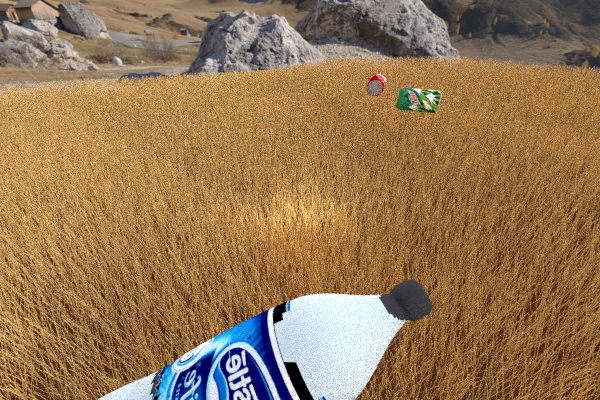bottle: (0, 281, 427, 400)
can: (267, 195, 342, 302), (259, 68, 286, 85)
